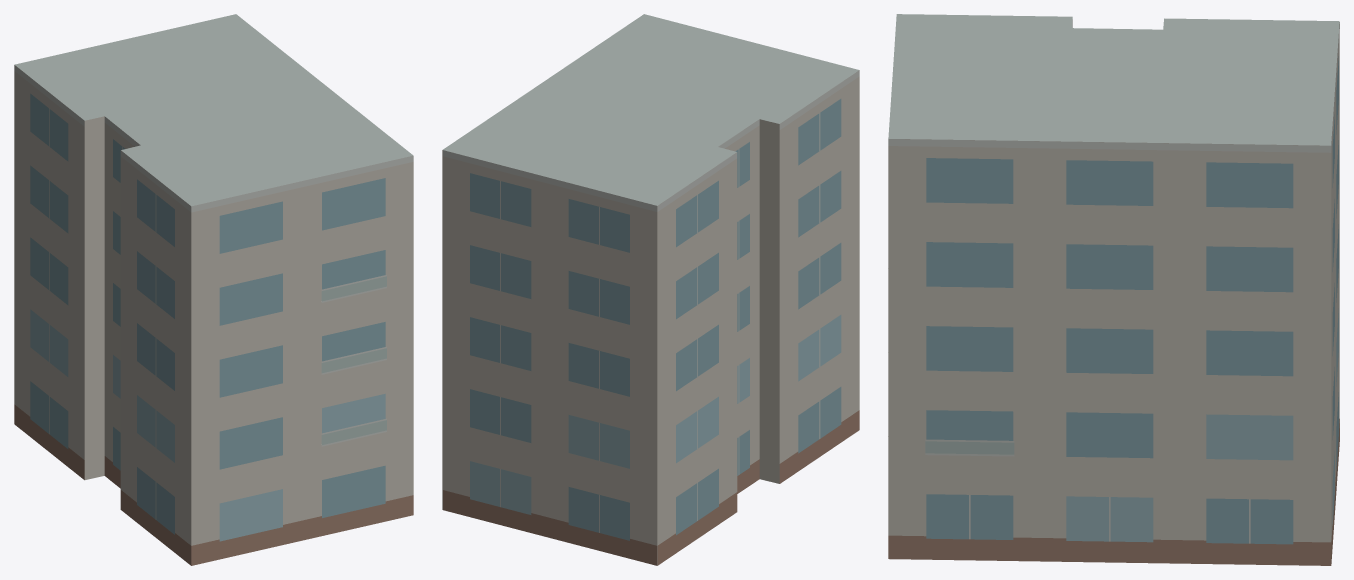
Rendered from survey-upis-32916306.glb.
3 views of the same model, side by side, from view 1: azimuth 30°, elevation 25°; view 2: azimuth 150°, elevation 25°; view 3: azimuth 270°, elevation 25° (orthographic). The views are drawn at different scales.
Visible parts, largest first — view 1: survey-upis-32916306.tmp; view 2: survey-upis-32916306.tmp; view 3: survey-upis-32916306.tmp.
Boxes of the visible parts, x1=… form: survey-upis-32916306.tmp: x1=14, y1=14, x2=413, y2=565; survey-upis-32916306.tmp: x1=442, y1=14, x2=859, y2=565; survey-upis-32916306.tmp: x1=888, y1=14, x2=1339, y2=565.
Bounding box in the file's own units: 9.55 × 14.2 × 13.83.
